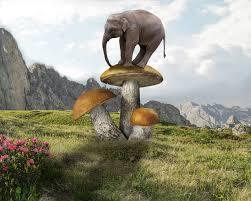elephant: (102, 9, 165, 65)
